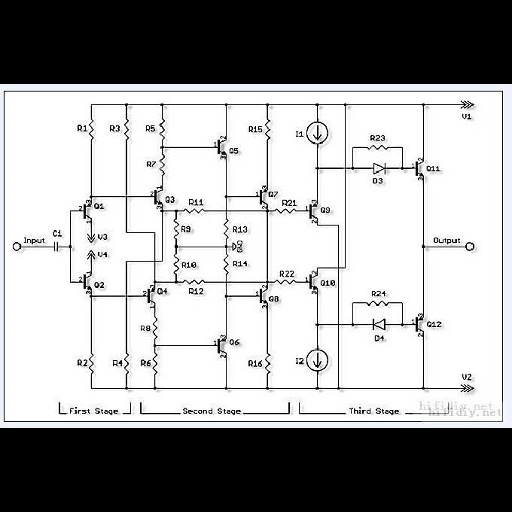capacitor: (49, 239, 62, 255)
seconddiode: (368, 316, 391, 332), (370, 160, 391, 177)
secondresistance: (151, 314, 165, 342), (263, 347, 276, 376), (362, 297, 393, 309), (87, 116, 99, 145), (362, 142, 393, 153), (178, 276, 212, 286), (264, 114, 274, 147), (272, 205, 302, 216), (158, 114, 169, 143), (158, 152, 169, 179), (122, 116, 133, 142), (272, 276, 298, 287), (123, 351, 133, 379), (221, 214, 231, 241), (88, 349, 97, 378), (222, 251, 232, 276), (152, 350, 160, 380), (171, 216, 180, 242), (171, 254, 180, 278)
